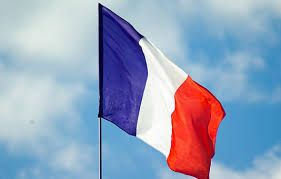French Flag: (98, 4, 215, 177)
